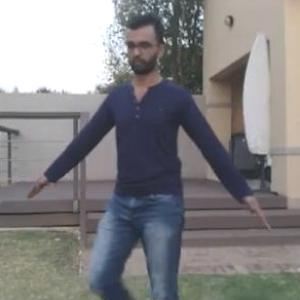land: (41, 23, 277, 299)
